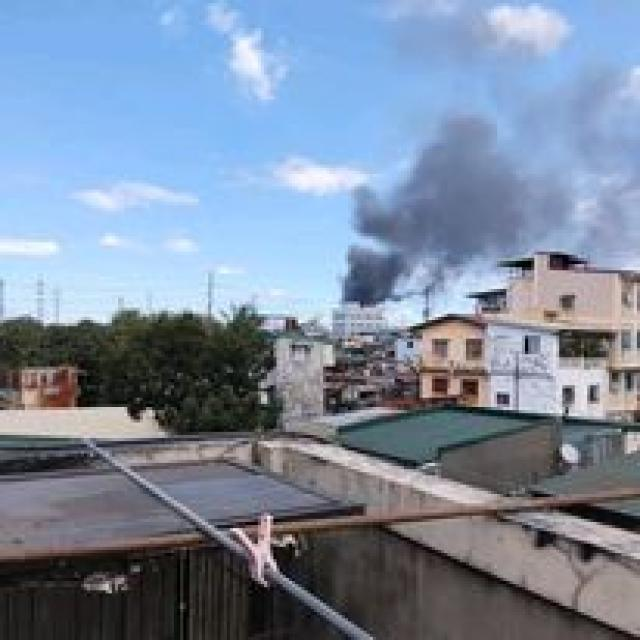Smoke: (458, 126, 622, 219), (364, 178, 506, 264), (339, 242, 417, 300)
